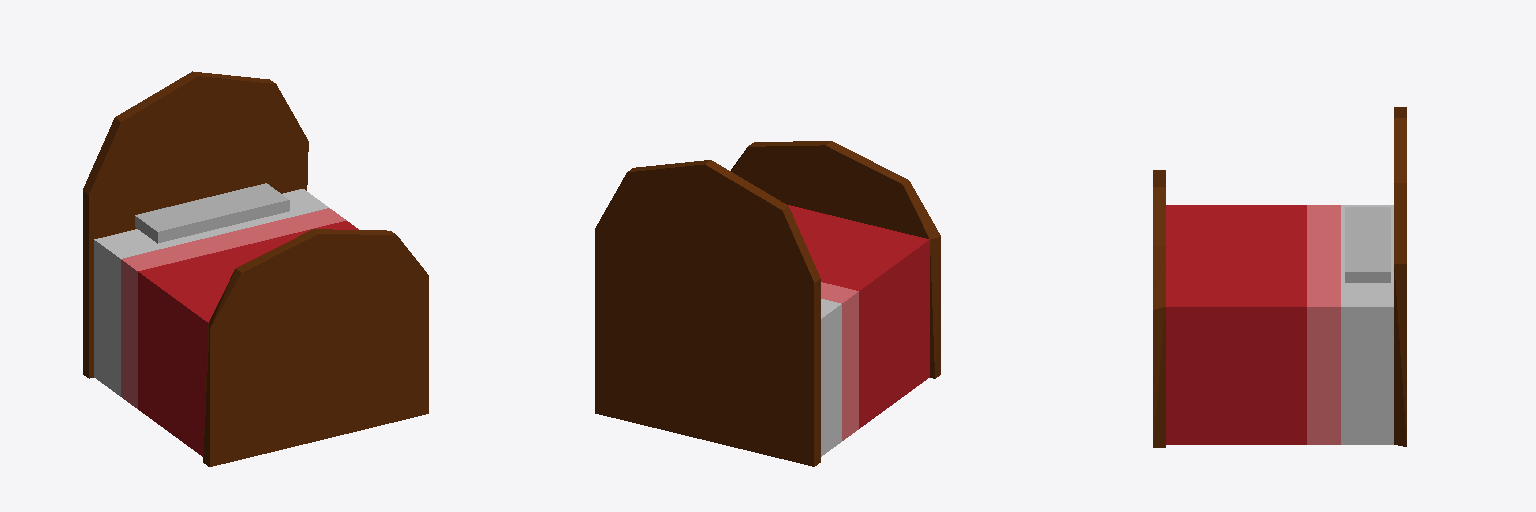
File: bed1.obj
3 renders of one model, left to right at view 1: azimuth 30°, elevation 25°; view 2: azimuth 150°, elevation 25°; view 3: azimuth 270°, elevation 25°, orthographic.
Visible parts, largest first — view 1: Object.1, Object.2; view 2: Object.1; view 3: Object.1, Object.2.
Part boxes in pixels (left/top/right/bottom): Object.1: left=83, top=71, right=428, bottom=466; Object.2: left=135, top=183, right=289, bottom=243; Object.1: left=595, top=141, right=940, bottom=466; Object.1: left=1153, top=107, right=1406, bottom=447; Object.2: left=1345, top=207, right=1390, bottom=282.
Bounding box in the file's own units: 1 × 1.2 × 1.